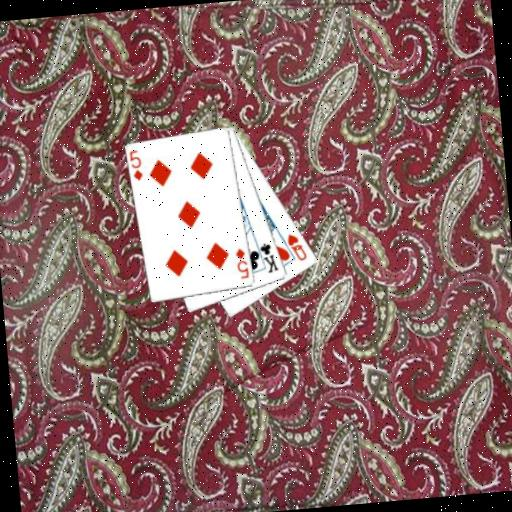5D: (233, 245, 251, 281), (126, 147, 144, 183)
KC: (253, 239, 281, 276)
QH: (284, 230, 310, 264)
